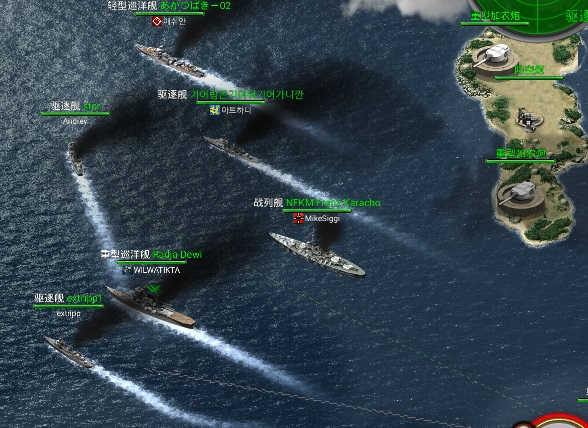ship: (267, 229, 367, 277), (104, 283, 199, 328), (134, 37, 207, 80), (43, 331, 98, 371), (201, 133, 263, 165), (62, 139, 89, 176)
